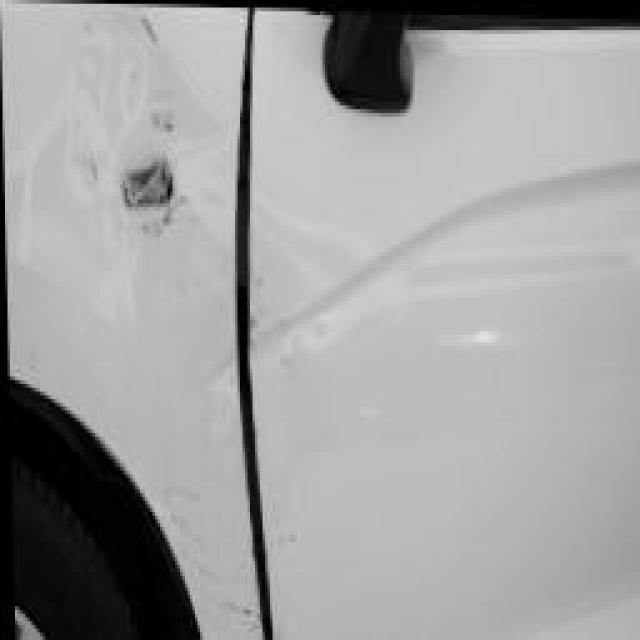Fender: (2, 11, 252, 364)
